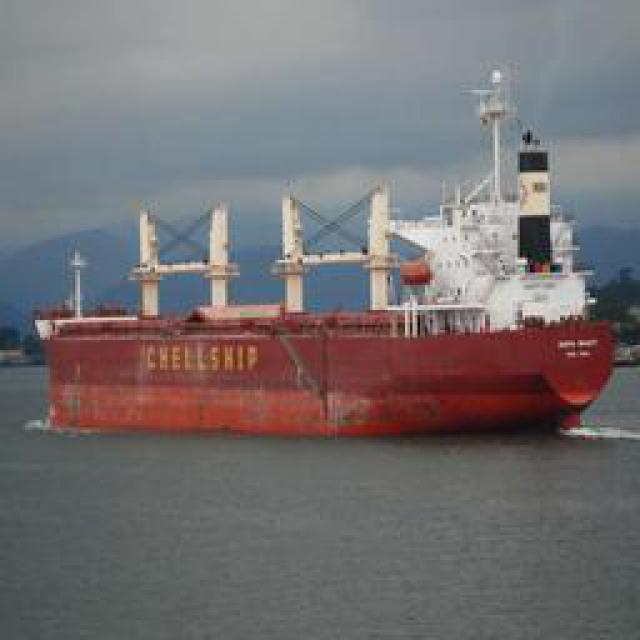Ship: (21, 189, 616, 442)
